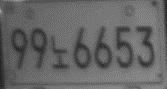3: (135, 24, 156, 67)
5: (114, 24, 134, 69)
6: (72, 26, 93, 69), (93, 25, 113, 68)
9: (29, 28, 49, 70), (10, 28, 28, 71)
노: (49, 35, 70, 71)
